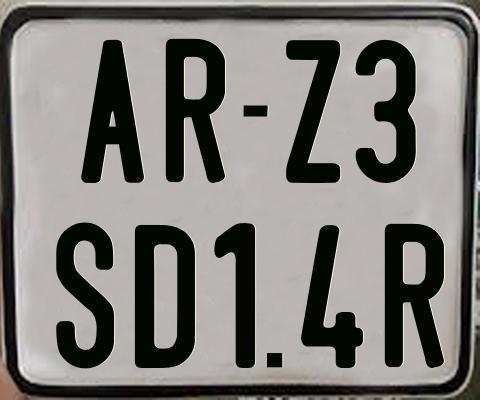1: (214, 221, 259, 372)
3: (353, 38, 414, 187)
4: (300, 222, 362, 367)
A: (78, 38, 141, 181)
D: (132, 222, 196, 366)
R: (385, 221, 450, 371), (164, 39, 228, 184)
S: (54, 222, 114, 371)
Z: (286, 38, 343, 186)
